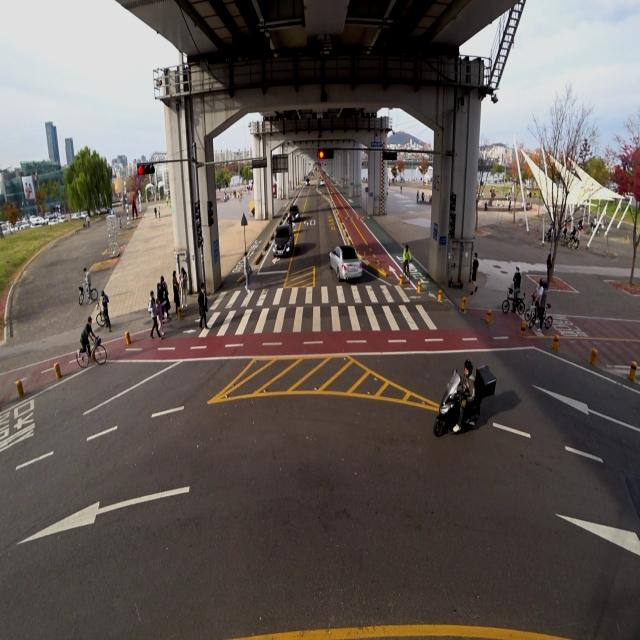Car: (324, 239, 362, 285), (271, 221, 295, 259), (284, 200, 302, 226)
Motorcycle: (432, 358, 496, 438)
